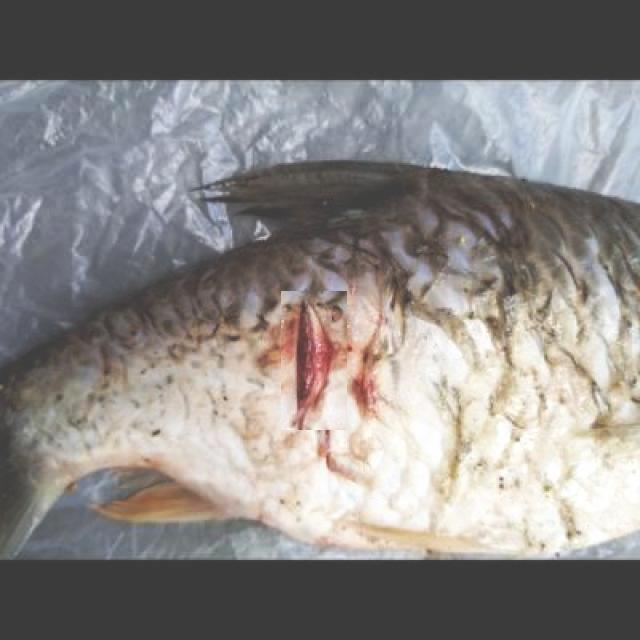Aeromonas Septicemia: (0, 163, 640, 558)
